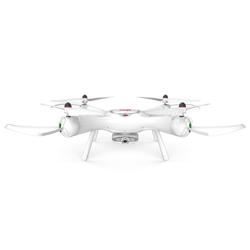drone: (5, 94, 247, 165)
